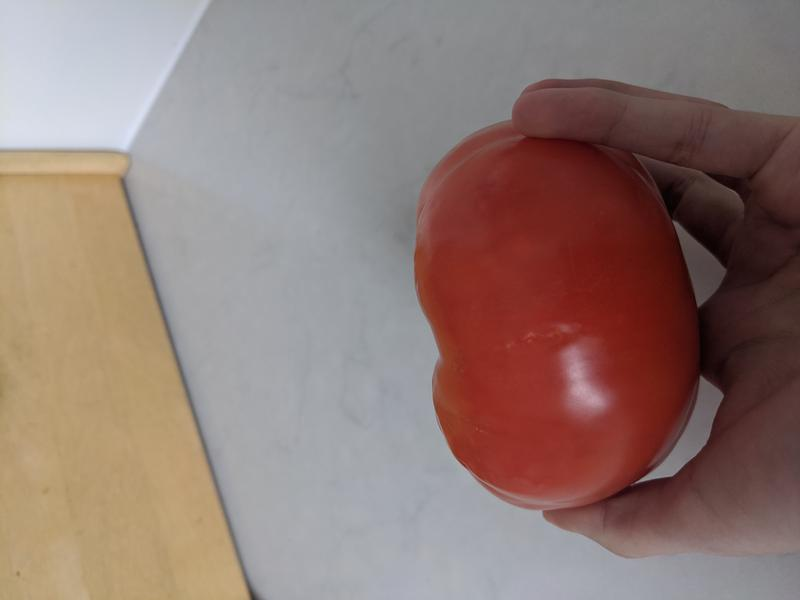tomato: (411, 116, 703, 510)
